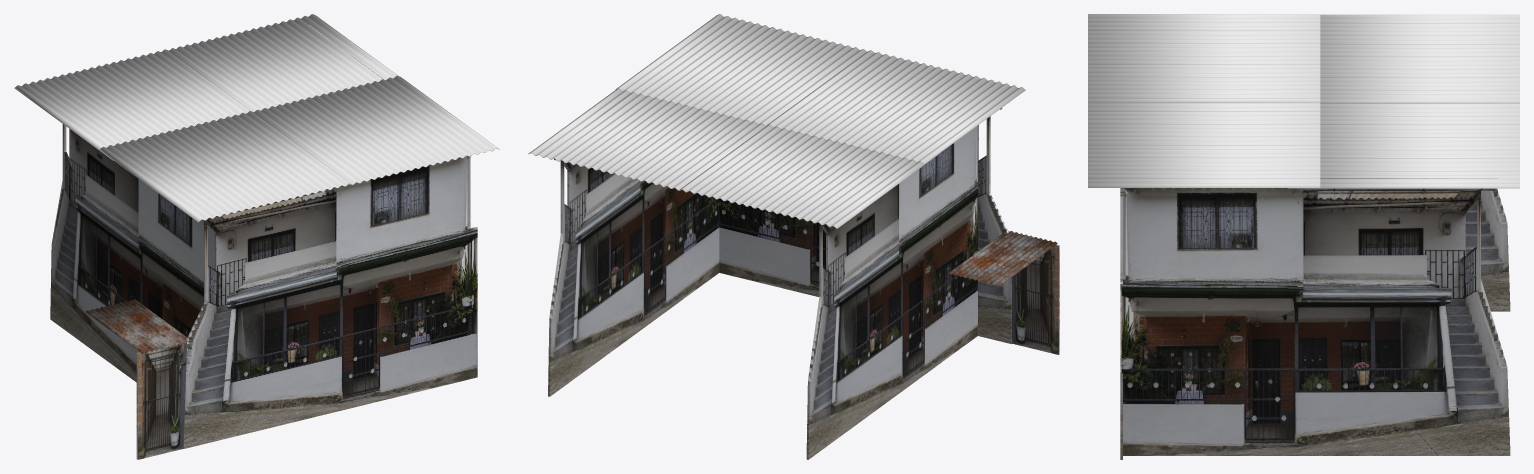
File: casaA_derecha_11.fbx
3 renders of one model, left to right at view 1: azimuth 30°, elevation 25°; view 2: azimuth 150°, elevation 25°; view 3: azimuth 270°, elevation 25°, orthographic. The views are drawn at different scales.
Parts seen in each view (by area): view 1: casaA_derecha_11.001, Techo_08.008, casaA_derecha_11.003, casaA_derecha_12.001, CorrigatedPanel-1x2.002; view 2: Techo_08.008, casaA_derecha_11.003, casaA_derecha_11.002, casaA_derecha_11.001, casaA_derecha_12.001, CorrigatedPanel-1x2.002; view 3: casaA_derecha_11.002, Techo_08.008, casaA_derecha_11.003, casaA_derecha_11.001.
Part boxes in pixels (x1,y1,x2,y2): casaA_derecha_11.001: [183, 155, 477, 448]; Techo_08.008: [14, 14, 499, 222]; casaA_derecha_11.003: [50, 124, 215, 382]; casaA_derecha_12.001: [136, 342, 186, 459]; CorrigatedPanel-1x2.002: [85, 299, 191, 353]; Techo_08.008: [528, 14, 1025, 228]; casaA_derecha_11.003: [806, 125, 977, 459]; casaA_derecha_11.002: [548, 93, 719, 396]; casaA_derecha_11.001: [719, 108, 1011, 344]; casaA_derecha_12.001: [1011, 244, 1059, 354]; CorrigatedPanel-1x2.002: [949, 231, 1057, 286]; casaA_derecha_11.002: [1121, 178, 1510, 455]; Techo_08.008: [1088, 14, 1519, 188]; casaA_derecha_11.003: [1465, 189, 1510, 311]; casaA_derecha_11.001: [1120, 188, 1122, 459].
Size of the model in its own units: 1178 by 772 by 1078.
